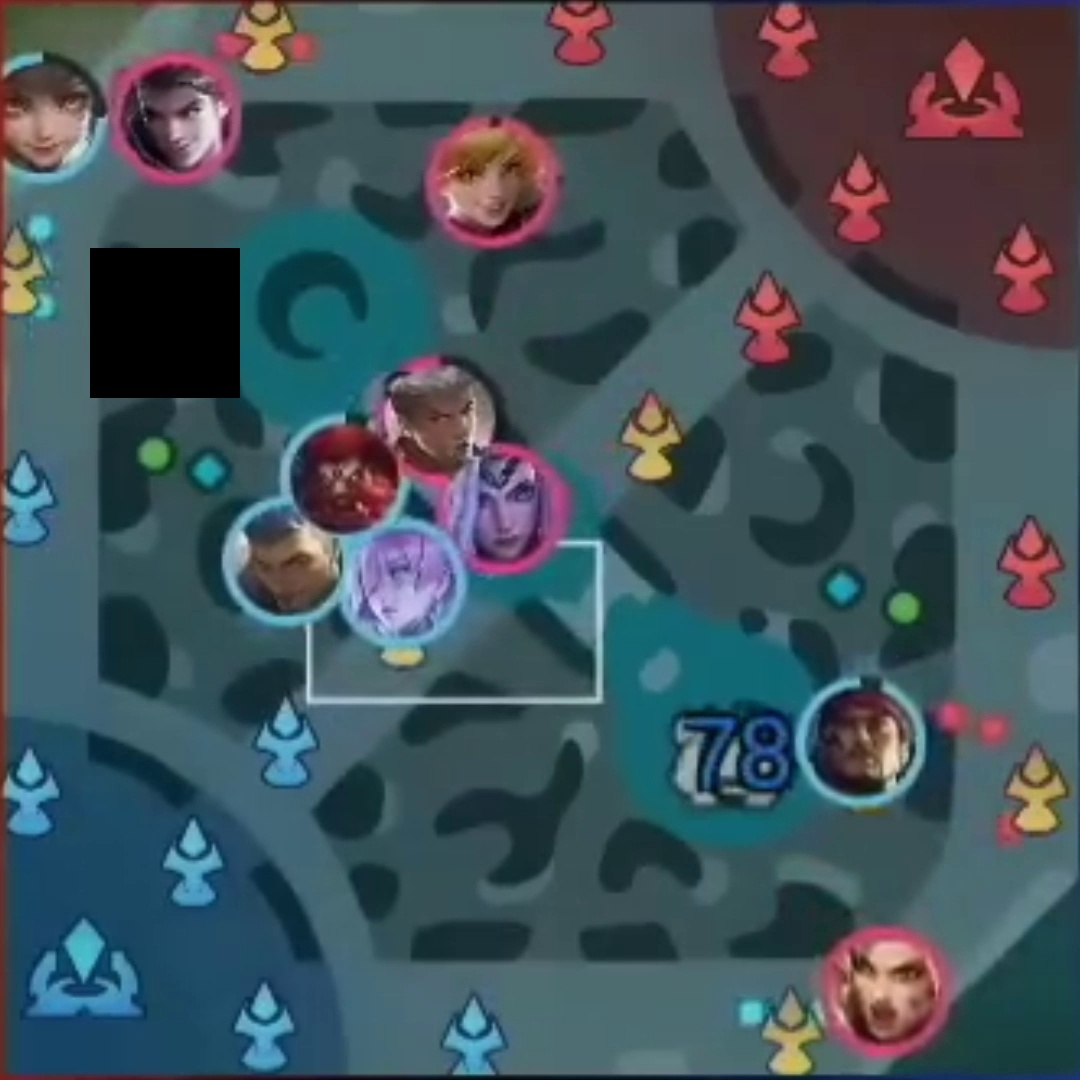Chou: (397, 379, 480, 463)
Claude: (134, 75, 216, 164)
Fanny: (447, 135, 520, 227)
Fredrinn: (246, 517, 328, 604)
Lapu-Lapu: (823, 694, 900, 788)
Masha: (844, 945, 929, 1039)
Minotaur: (305, 431, 384, 524)
Novaria: (357, 539, 447, 629)
Valentina: (462, 467, 544, 553)
Wanwan: (6, 72, 87, 167)
